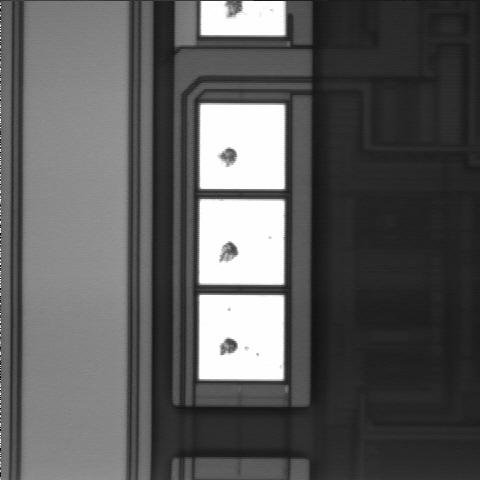pad: (199, 199, 284, 285), (200, 104, 285, 189), (199, 295, 284, 380)
